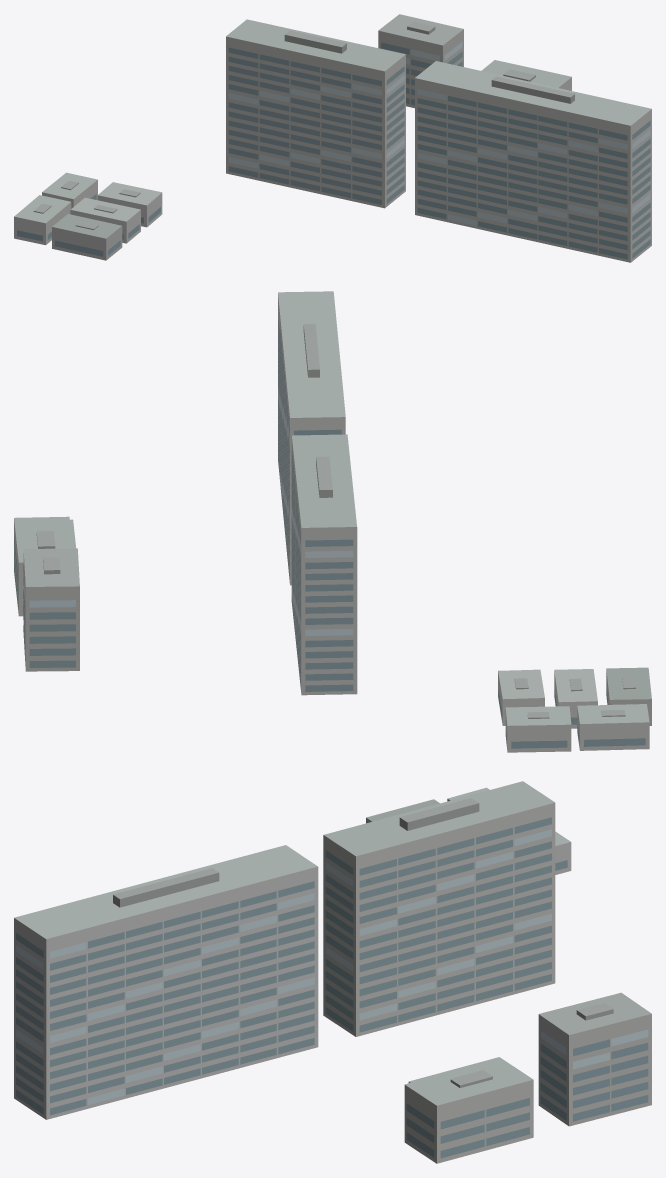
File: apt-a12186901.glb
3 renders of one model, top to bottom at view 1: azimuth 30°, elevation 25°; view 2: azimuth 150°, elevation 25°; view 3: azimuth 270°, elevation 25°, orthographic. The views are drawn at different scales.
Visible parts, largest first — view 1: apt-a12186901; view 2: apt-a12186901; view 3: apt-a12186901.
Boxes of the visible parts, bbox=[...] form: apt-a12186901: bbox=[14, 14, 651, 262]; apt-a12186901: bbox=[14, 291, 651, 752]; apt-a12186901: bbox=[14, 781, 651, 1163].
Bounding box in the file's own units: 157 × 39.85 × 122.
